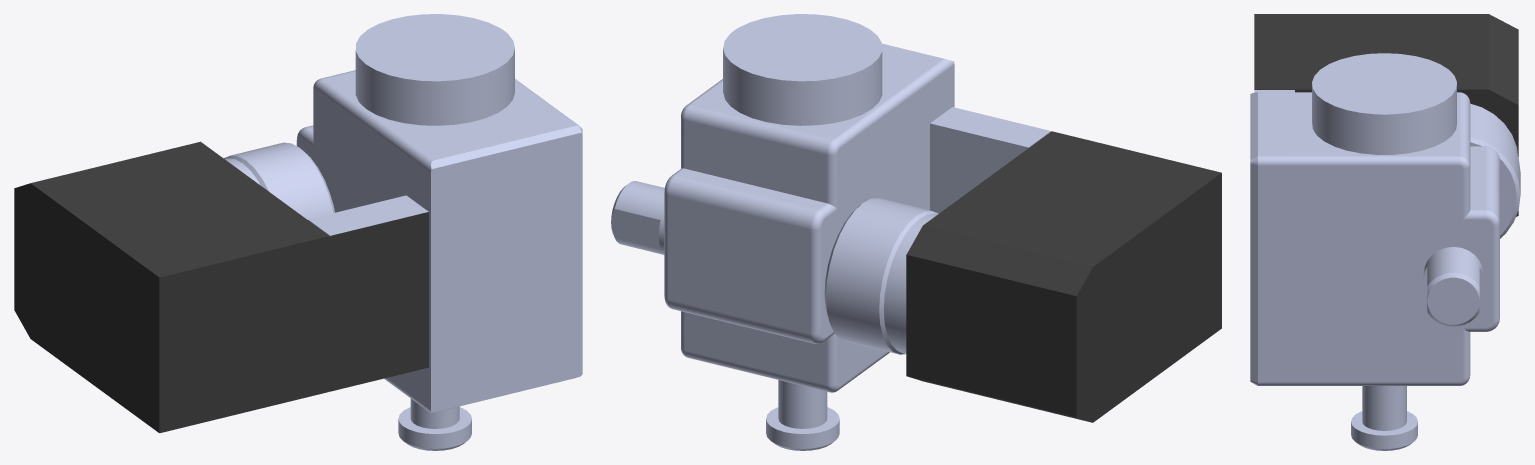
File: wrist_link.dae
3 renders of one model, left to right at view 1: azimuth 30°, elevation 25°; view 2: azimuth 150°, elevation 25°; view 3: azimuth 270°, elevation 25°, orthographic. The views are drawn at different scales.
Parts seen in each view (by area): view 1: _3DGeom-88, _3DGeom-89, _3DGeom-90; view 2: _3DGeom-89, _3DGeom-88, _3DGeom-90; view 3: _3DGeom-89, _3DGeom-88.
Boxes of the visible parts, x1,y1,x2,y2 form: _3DGeom-88: (14,141,428,433); _3DGeom-89: (224,14,582,450); _3DGeom-90: (298,88,430,409); _3DGeom-89: (611,14,1050,450); _3DGeom-88: (906,131,1221,422); _3DGeom-90: (821,65,1050,386); _3DGeom-89: (1250,53,1520,450); _3DGeom-88: (1254,14,1518,216).
Size of the model in its own units: 0.0687 by 0.0362 by 0.0525.
